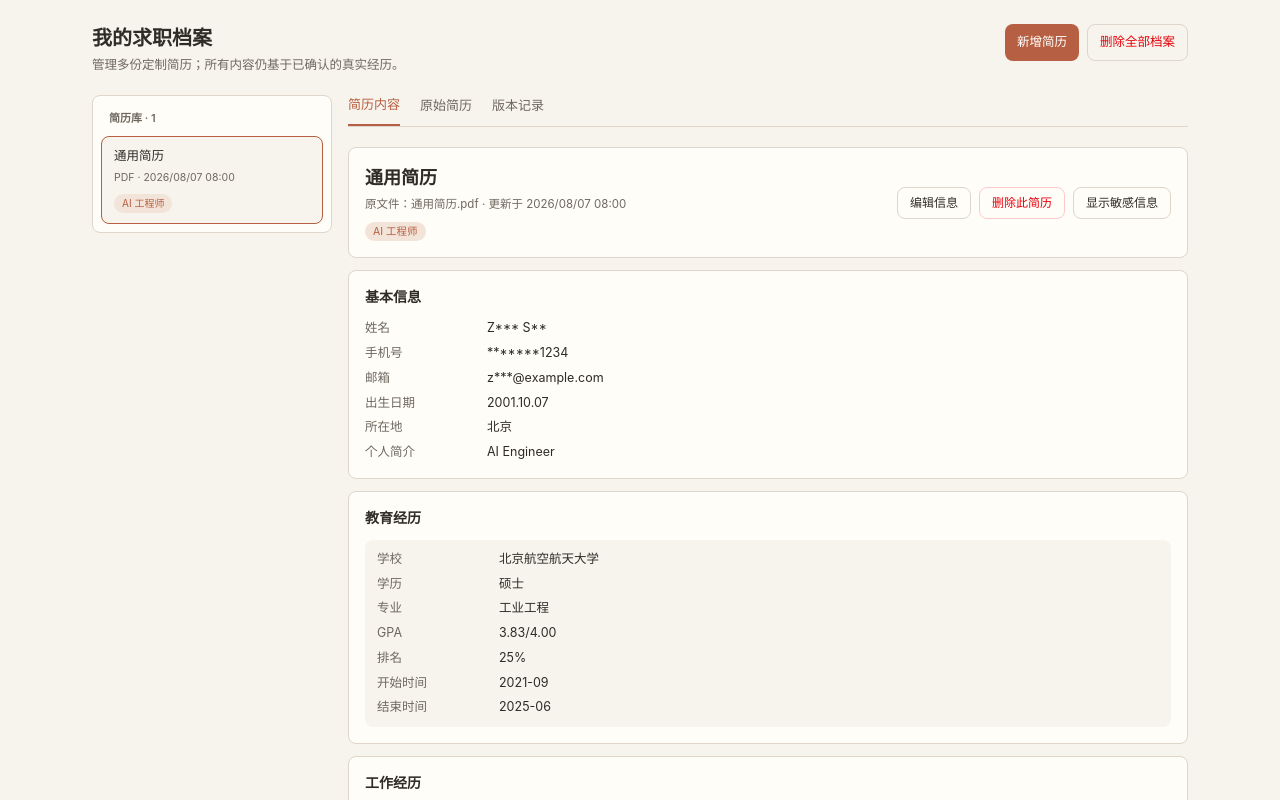
Test: CareerProfileView › loads clear sensitive fields only after explicit click
expect the text "*******1234" is shown: met, box [487,345,568,360]
Click the button "显示敏感信息": (1122, 203) [1073,187,1171,219]
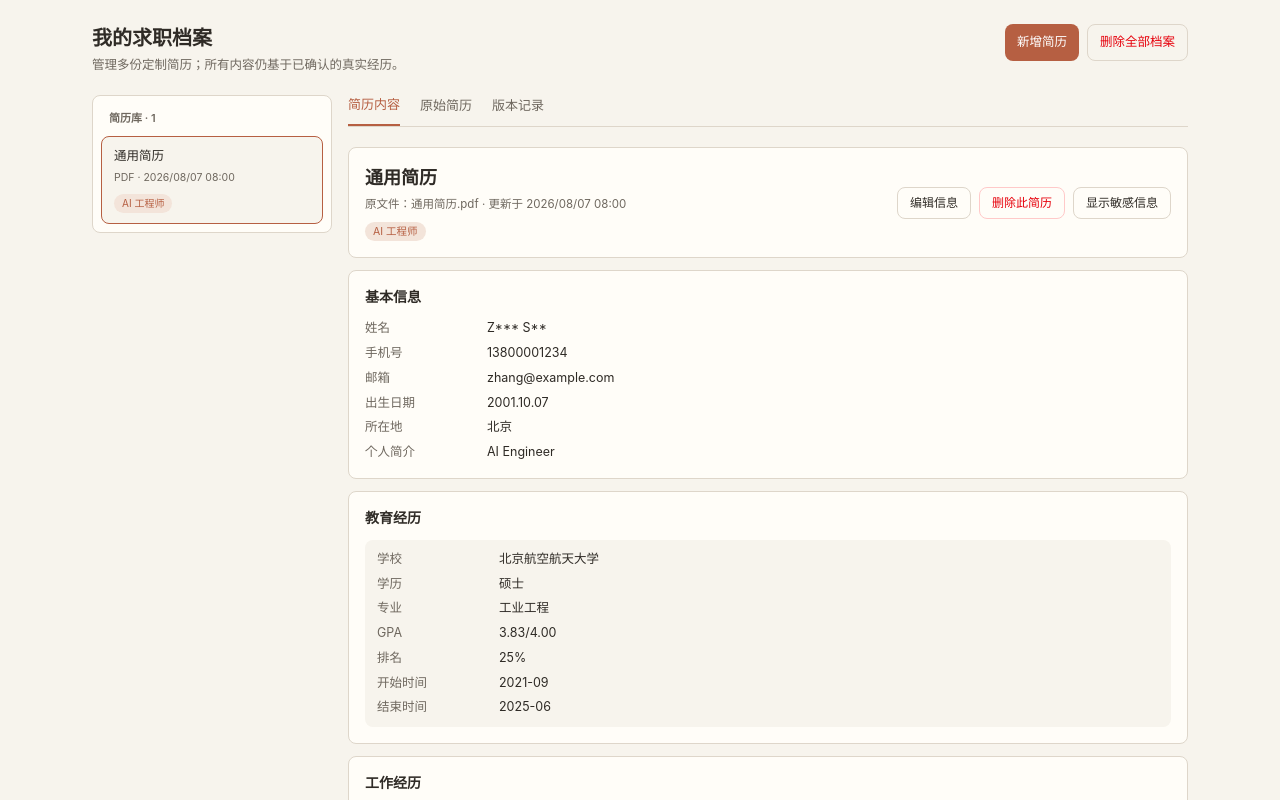
expect the text "13800001234" is shown: met, box [487,345,568,360]
